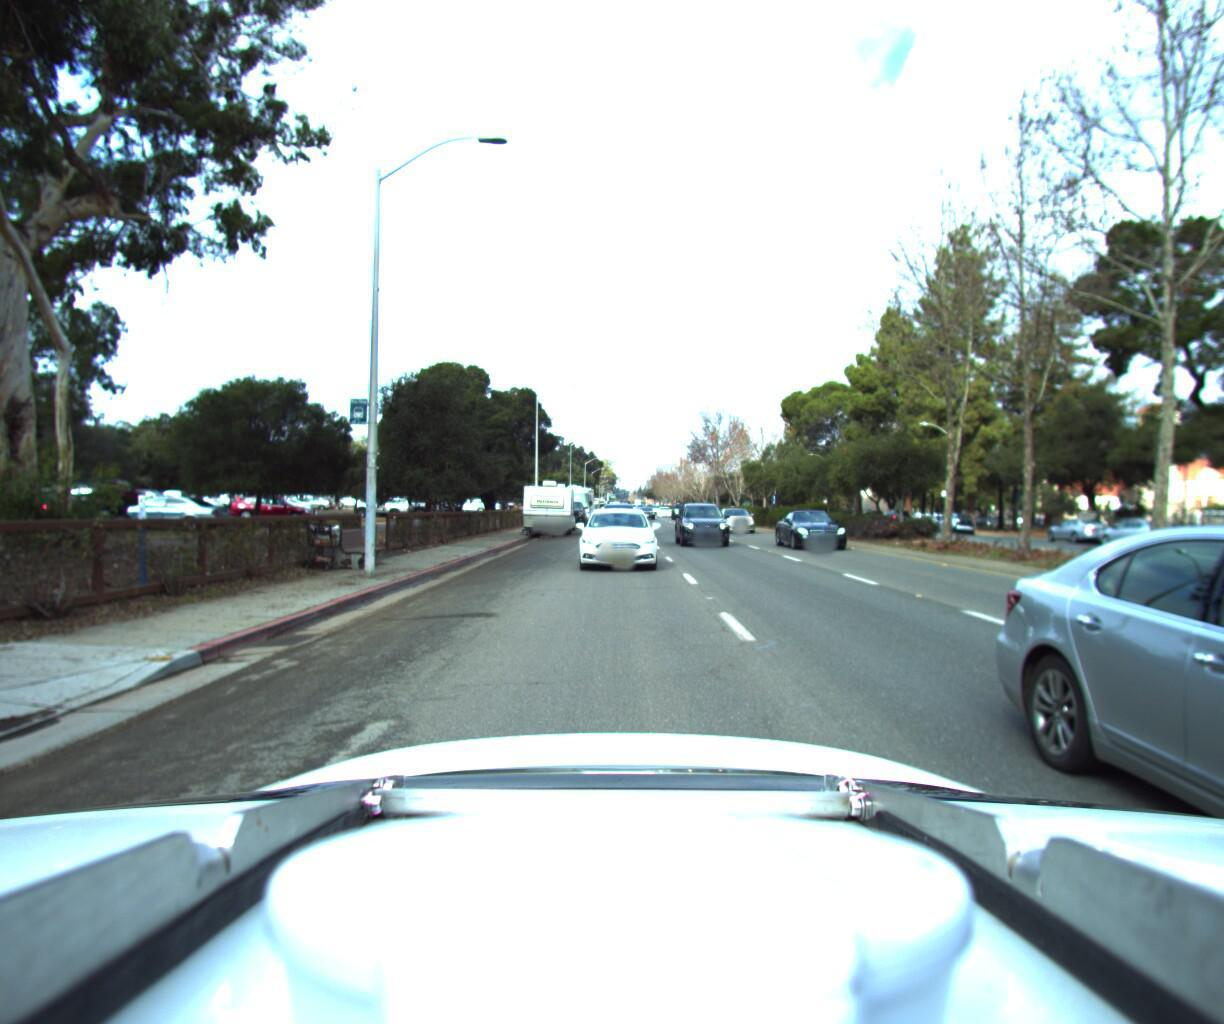car: (1200, 507, 1224, 776), (573, 496, 657, 573), (775, 500, 857, 549), (1090, 511, 1187, 547), (671, 497, 739, 547), (1039, 510, 1118, 543), (1181, 507, 1224, 558), (717, 499, 768, 532), (933, 505, 979, 529), (554, 494, 588, 524), (541, 503, 578, 529)
other_vehicle: (514, 476, 577, 533), (550, 478, 597, 522)
